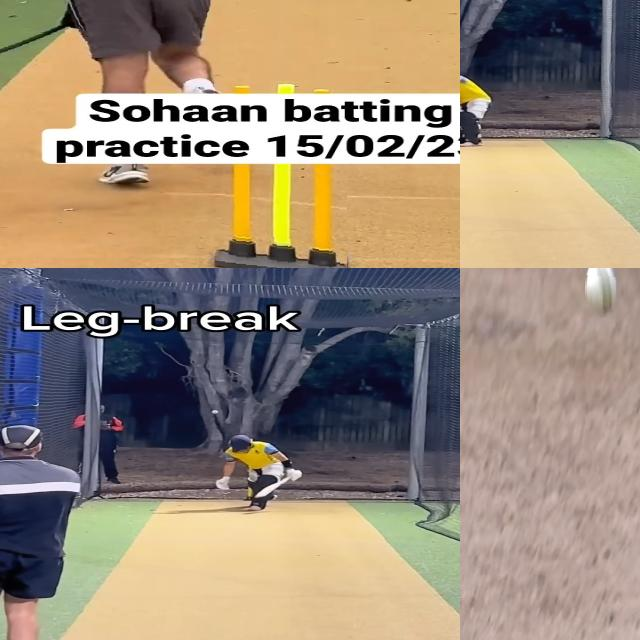Cricket ball: (584, 268, 617, 317), (210, 409, 220, 415)
Stumps: (219, 164, 347, 268)
